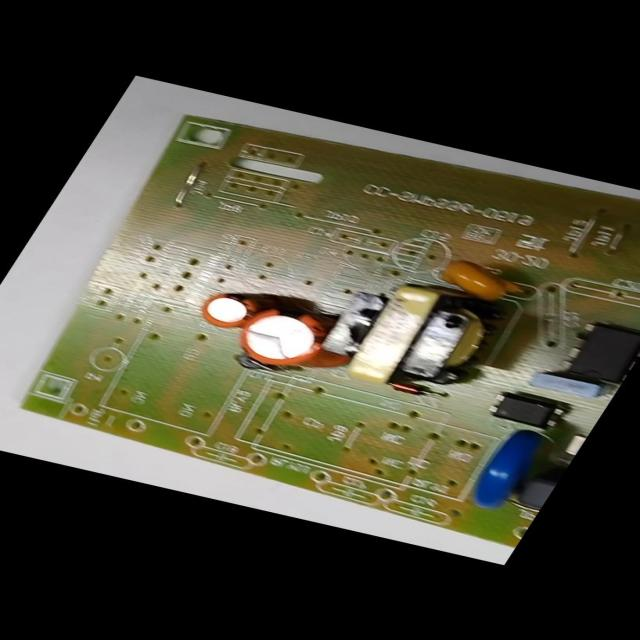Cap1: (225, 305, 336, 371)
Cap2: (195, 288, 262, 330)
MOSFET: (558, 321, 639, 383)
Mov: (460, 428, 545, 512)
